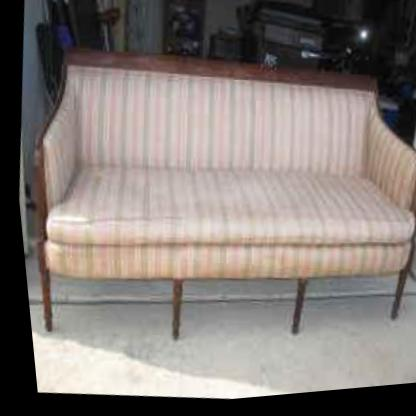Sofa: (4, 24, 416, 380)
